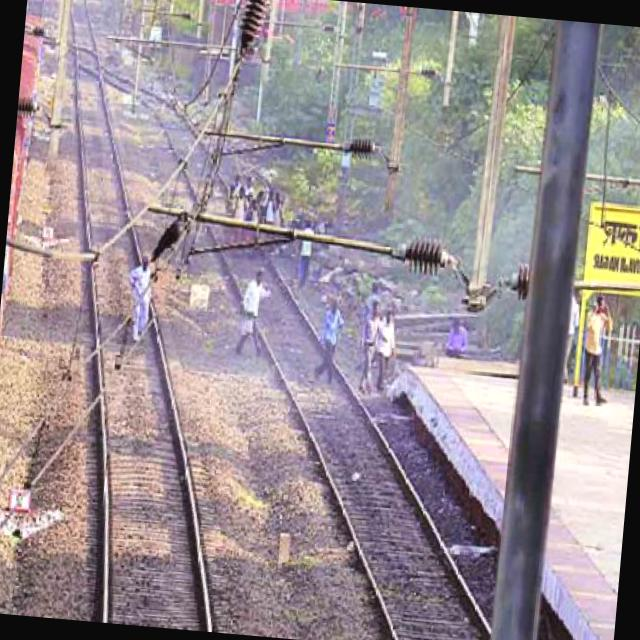Person: (120, 249, 160, 342), (354, 296, 385, 396), (233, 266, 268, 353), (311, 296, 344, 384), (371, 306, 400, 392)
